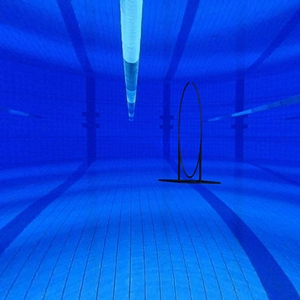circle: (158, 80, 222, 186)
